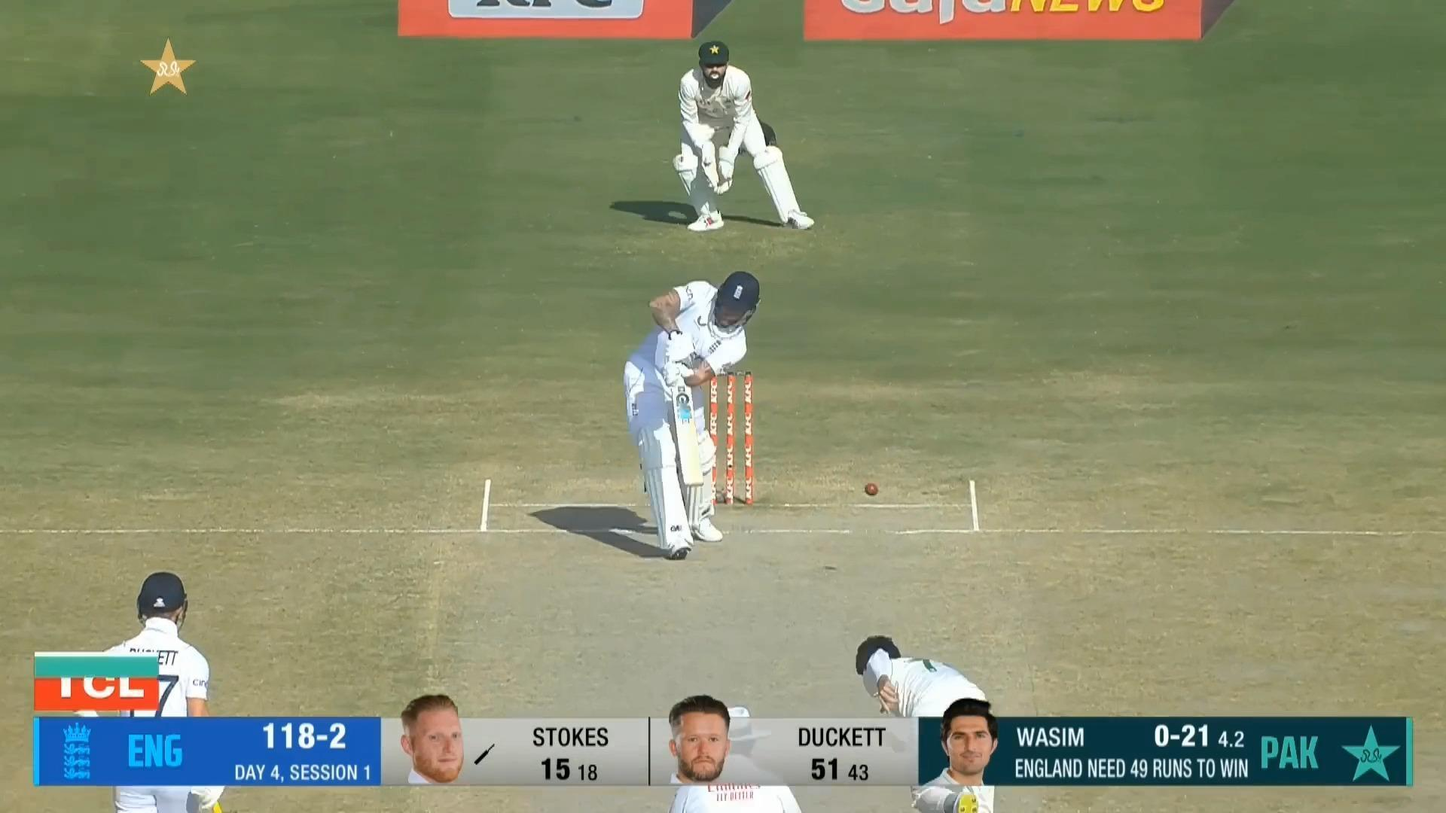BM 1: (622, 271, 763, 560)
BO: (855, 635, 996, 813)
